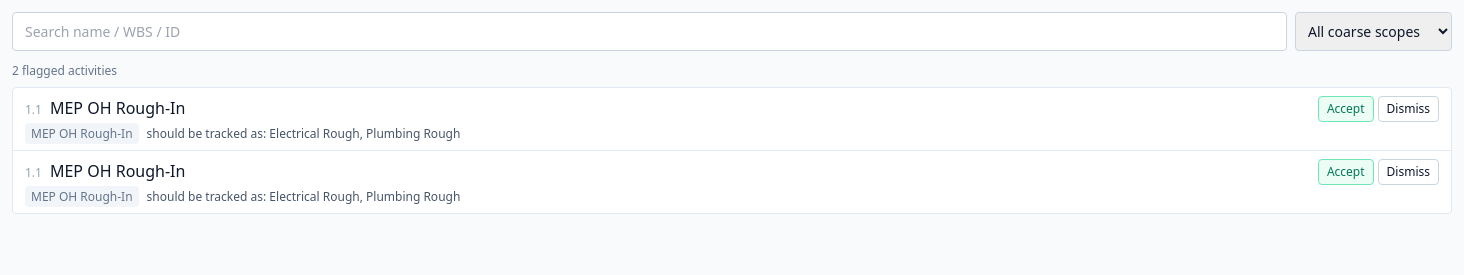
it: CompletenessIssuesTable › reports a failed accept
Click the 1st button "Accept" at [1346, 109], box top-left (1318, 96), bottom-right (1374, 122)
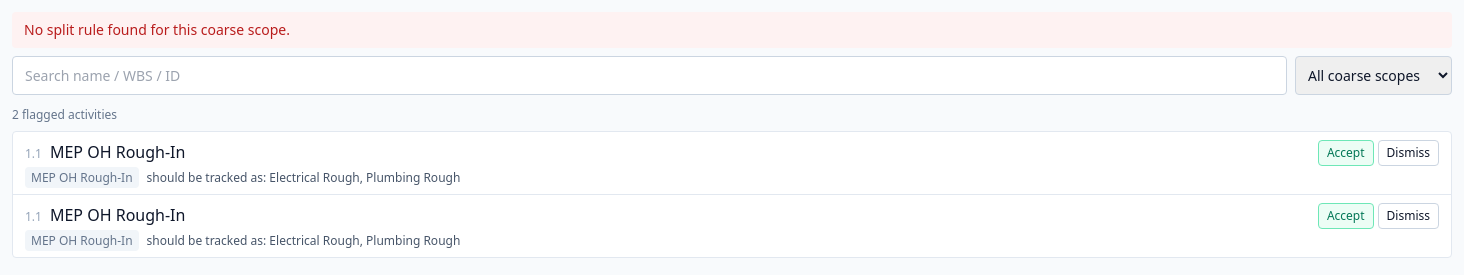
expect the text "No split rule found for this coarse scope." is shown: met, box top-left (12, 12), bottom-right (1452, 48)
